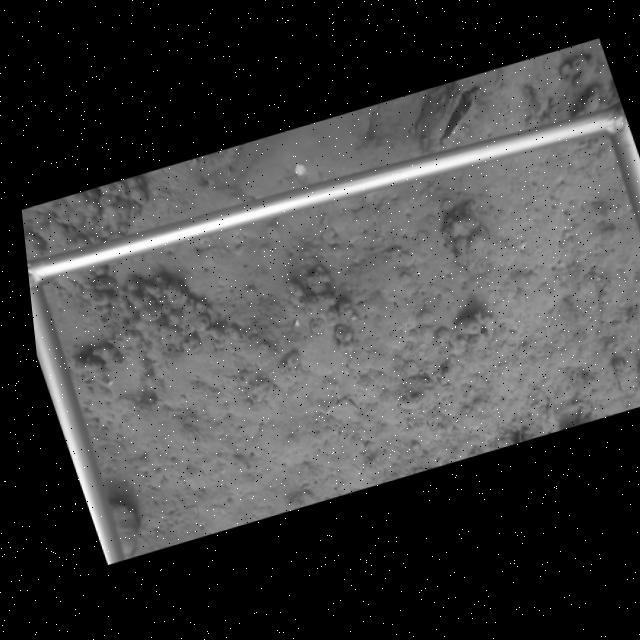Oyster-Open: (422, 83, 485, 146)
